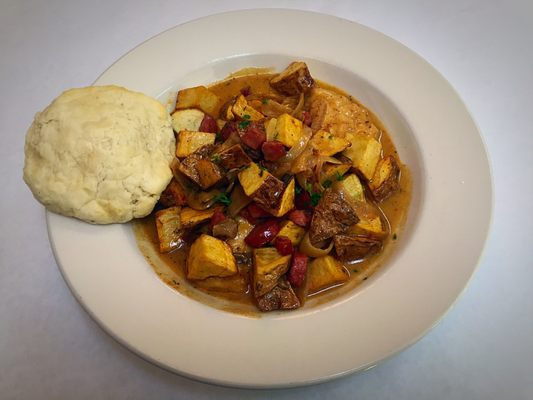sushi: (21, 0, 478, 389)
